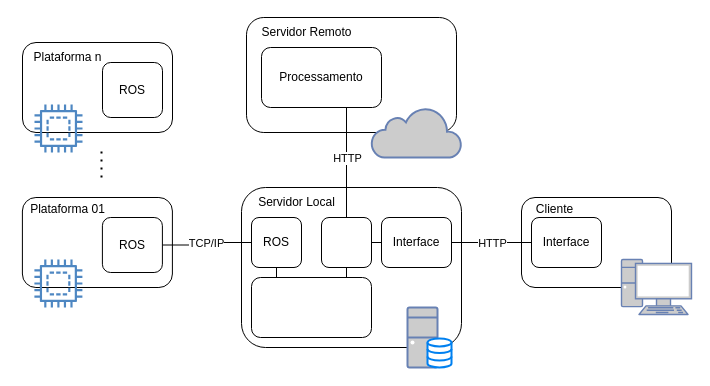
Some shapes in this 710 by 386 pixel diagram are drawn without their labels. The centre of each missing label's shape, as x and y in pixels:
"AWS" goes at point 416,132.
"Pré-Processamento" goes at point 311,307.
"SQL" goes at point 346,242.
